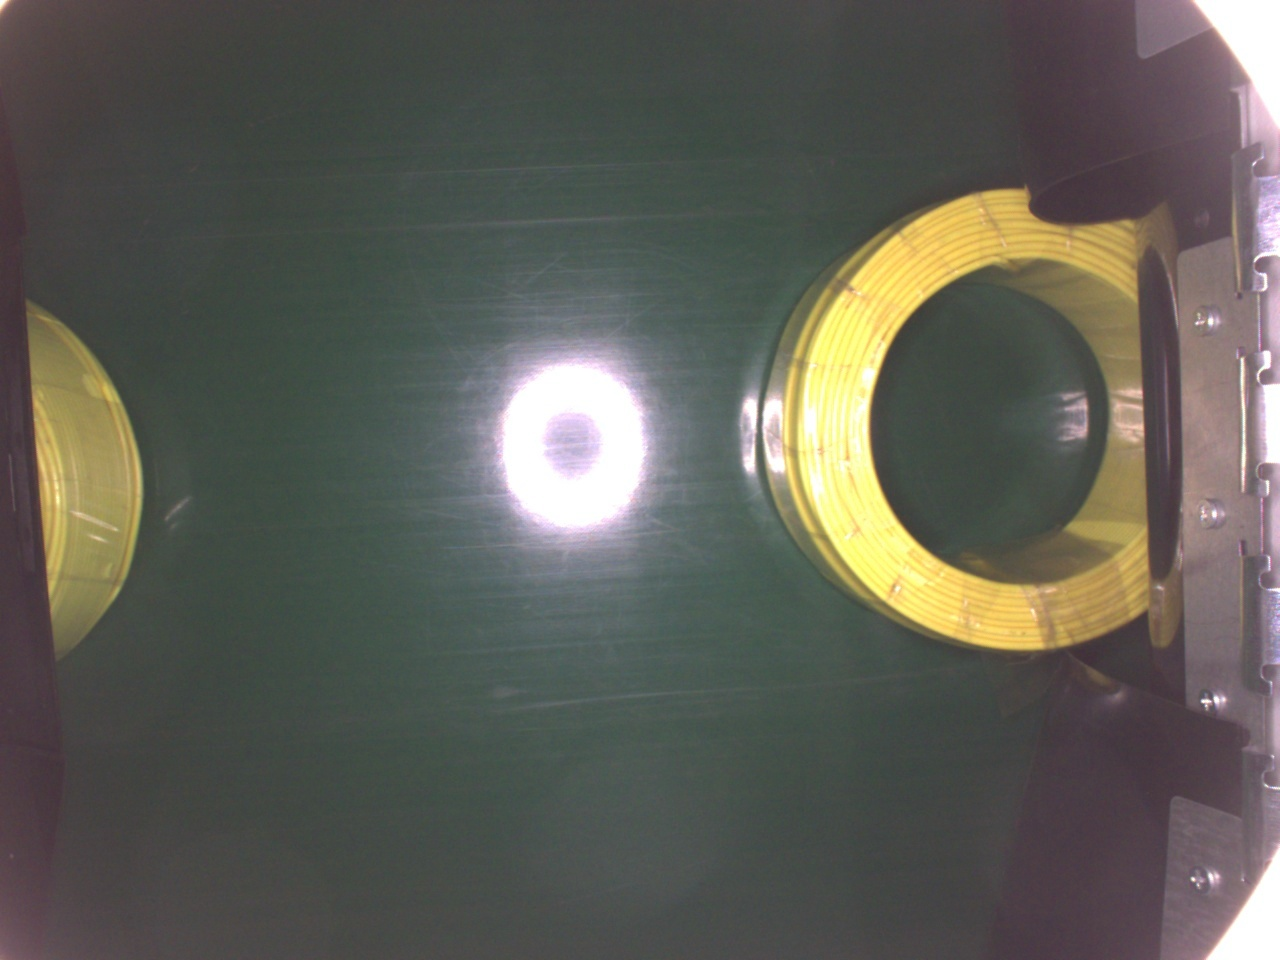yellow: (757, 189, 1152, 648)
